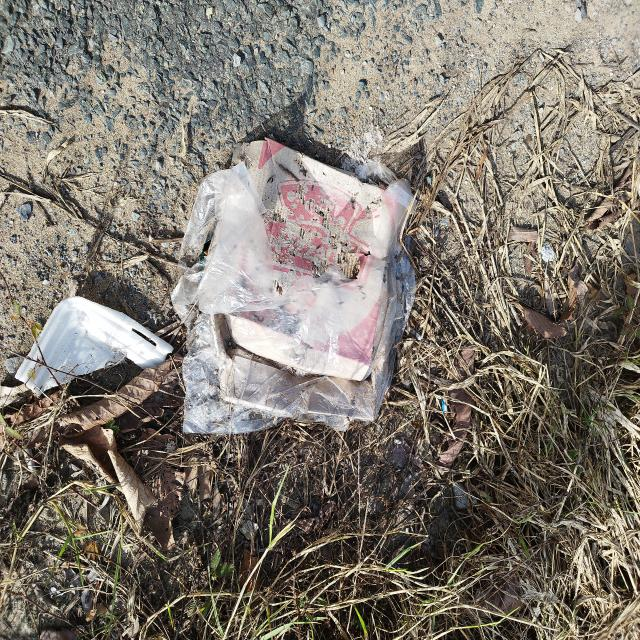trash bag: (170, 136, 417, 435)
